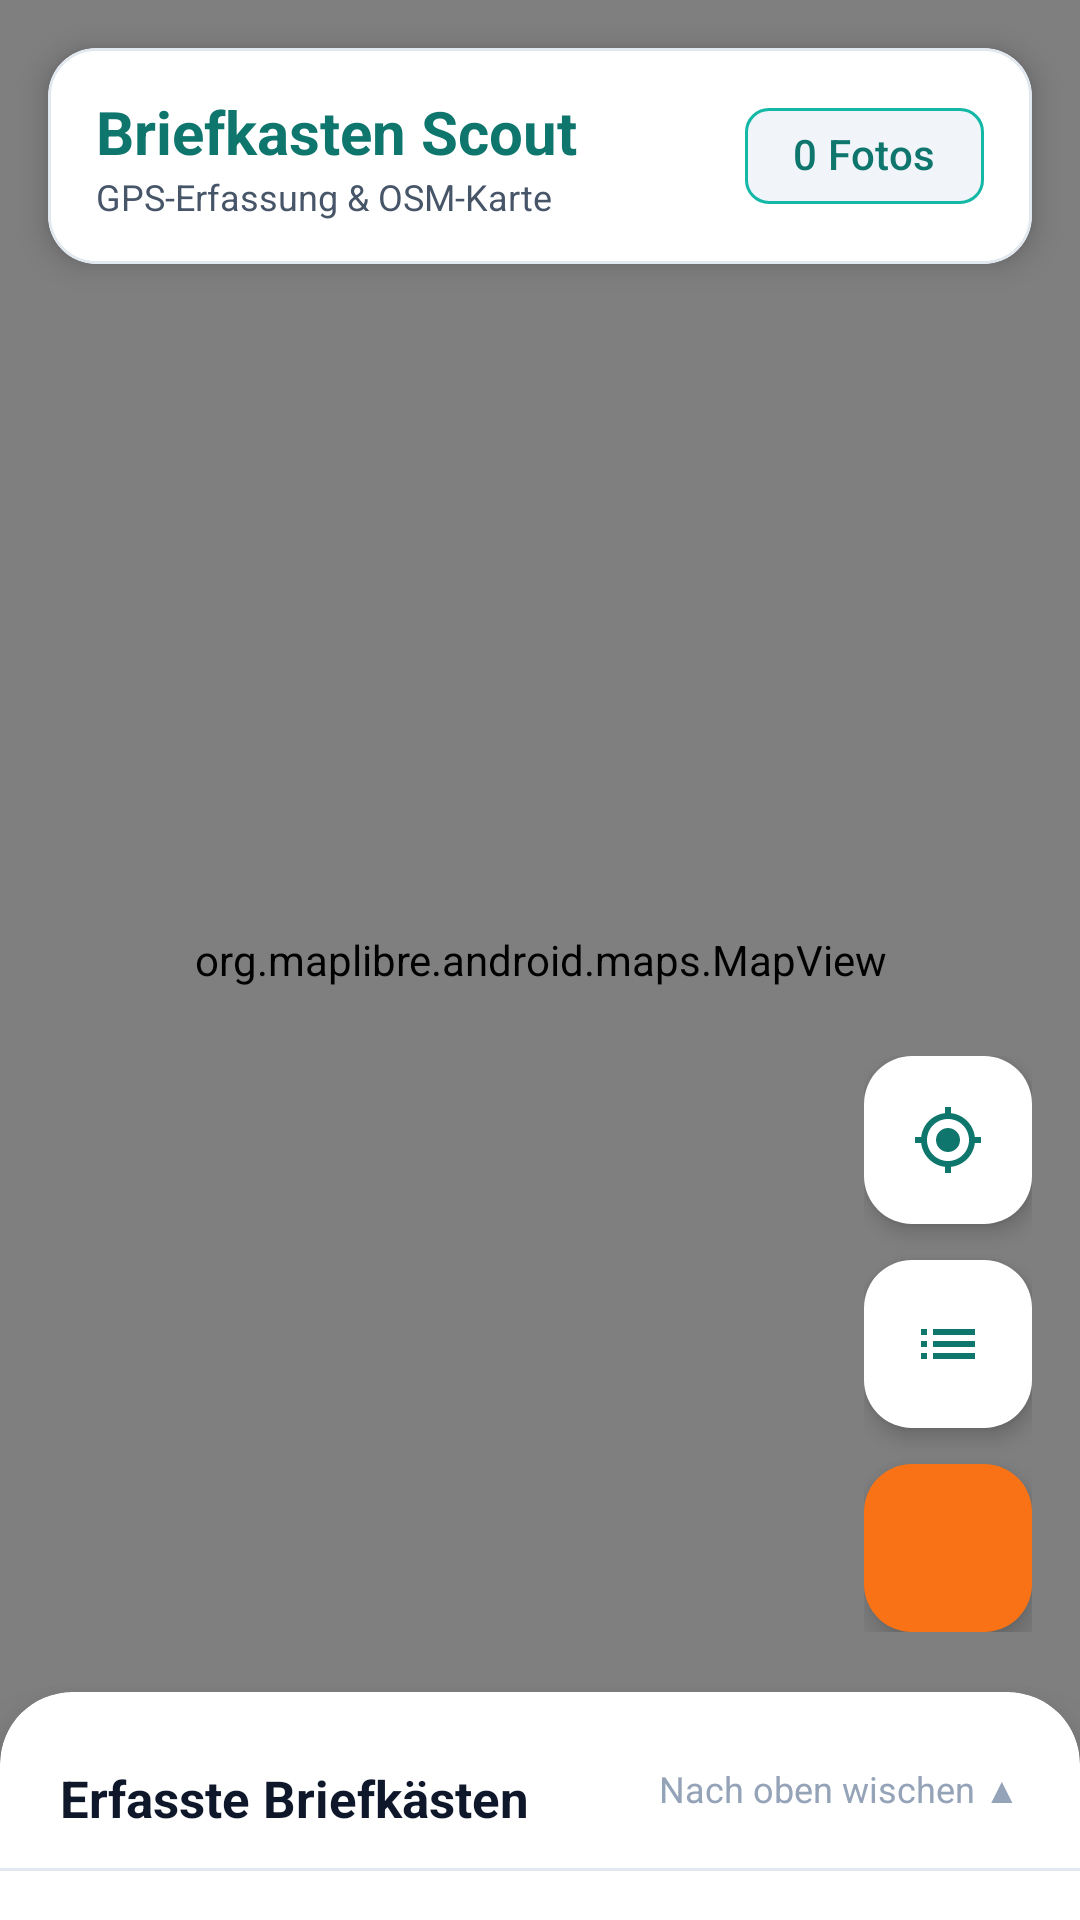

Icons on this 1080px x 1920px Android screen, each with its box as {"x1": x1, "y1": y1, "x2": x2, "y2": y2}:
Standort ermitteln: {"x1": 864, "y1": 1056, "x2": 1032, "y2": 1224}
